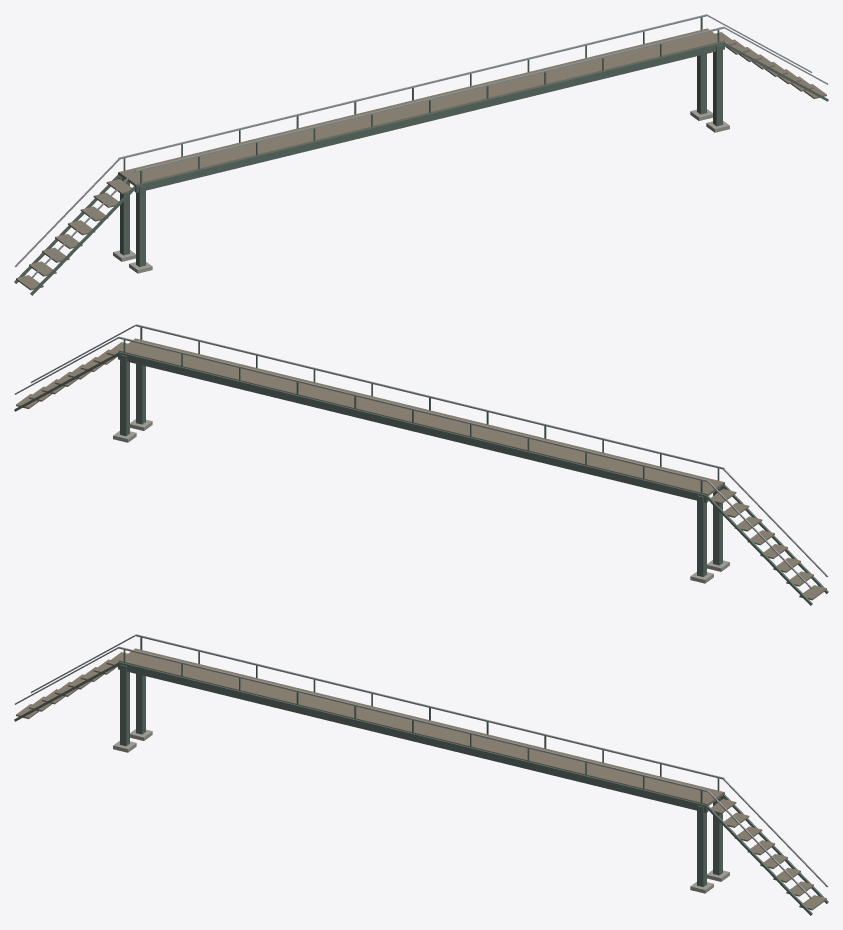
File: forest-footbridge-lod.glb
3 views of the same model, one above another, from view 1: azimuth 30°, elevation 25°; view 2: azimuth 150°, elevation 25°; view 3: azimuth 330°, elevation 25° (orthographic).
Visible parts, largest first — view 1: forest-footbridge; view 2: forest-footbridge; view 3: forest-footbridge.
Part boxes in pixels (<box>): forest-footbridge: <box>14,14,828,295</box>; forest-footbridge: <box>14,324,828,605</box>; forest-footbridge: <box>14,634,828,915</box>.
Size of the model in its own units: 69.11 by 8.29 by 3.7.
